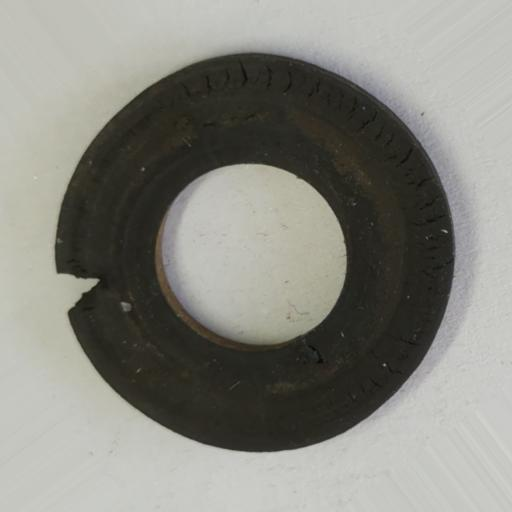defect: (56, 269, 103, 314)
